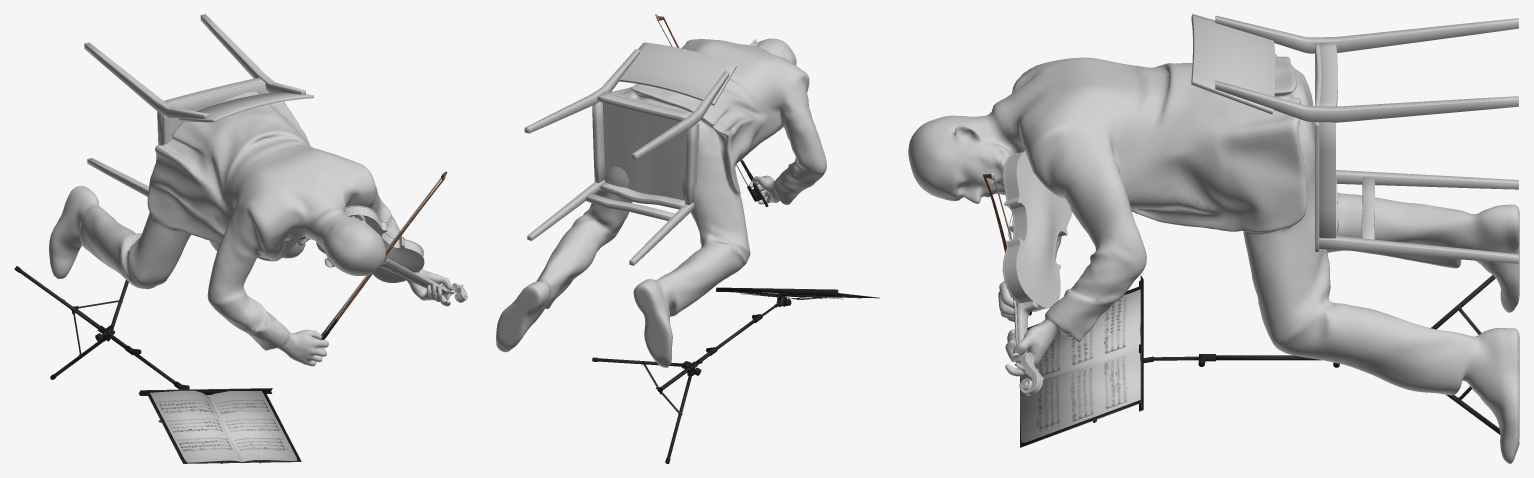
The model's file is TEXTUREDVIOLIN.fbx.
3 renders of one model, left to right at view 1: azimuth 30°, elevation 25°; view 2: azimuth 150°, elevation 25°; view 3: azimuth 270°, elevation 25°, orthographic. The views are drawn at different scales.
Parts seen in each view (by area): view 1: model; view 2: model; view 3: model.
Boxes of the visible parts, bbox=[...] form: model: bbox=[14, 14, 467, 463]; model: bbox=[496, 14, 879, 463]; model: bbox=[908, 14, 1519, 463].
Bounding box in the file's own units: 10214 × 11518 × 13647.
